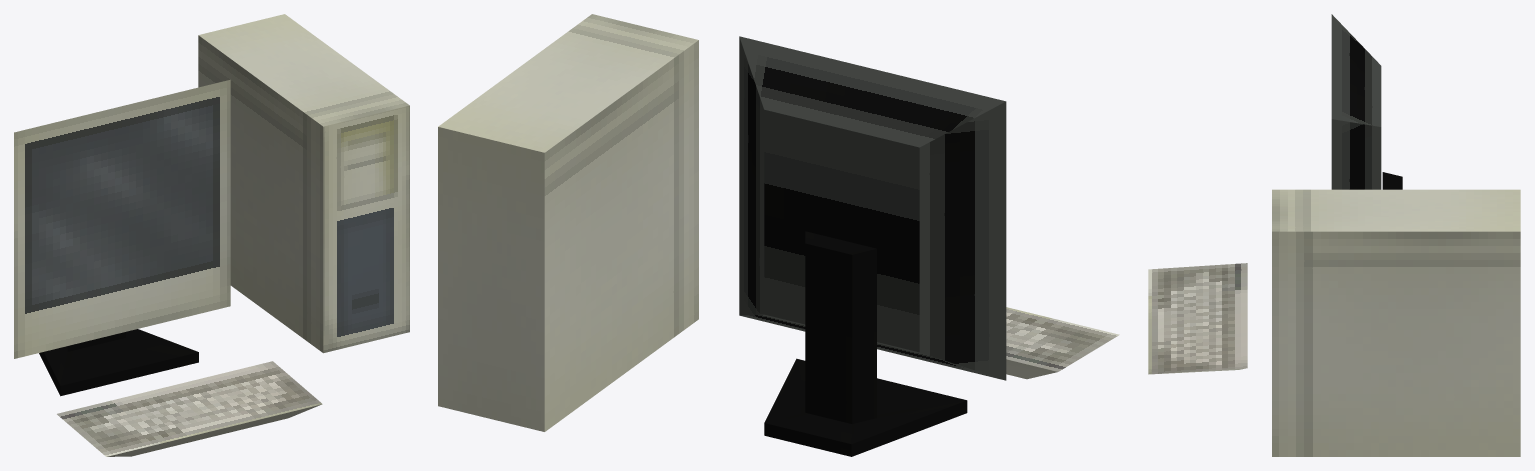
File: gateway.fbx
The picture shows the model from 3 angles, left to right: view 1: azimuth 30°, elevation 25°; view 2: azimuth 150°, elevation 25°; view 3: azimuth 270°, elevation 25°; orthographic projection. The views are drawn at different scales.
Visible parts, largest first — view 1: gateway; view 2: gateway; view 3: gateway.
Part boxes in pixels (x1,y1,x2,y2): gateway: [14, 14, 409, 456]; gateway: [438, 14, 1119, 456]; gateway: [1148, 14, 1520, 456].
Size of the model in its own units: 64.38 by 45.02 by 57.08.
